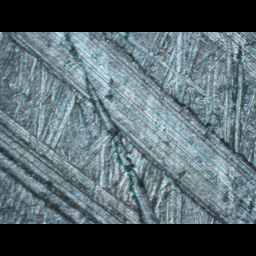d: (1, 32, 256, 222)
